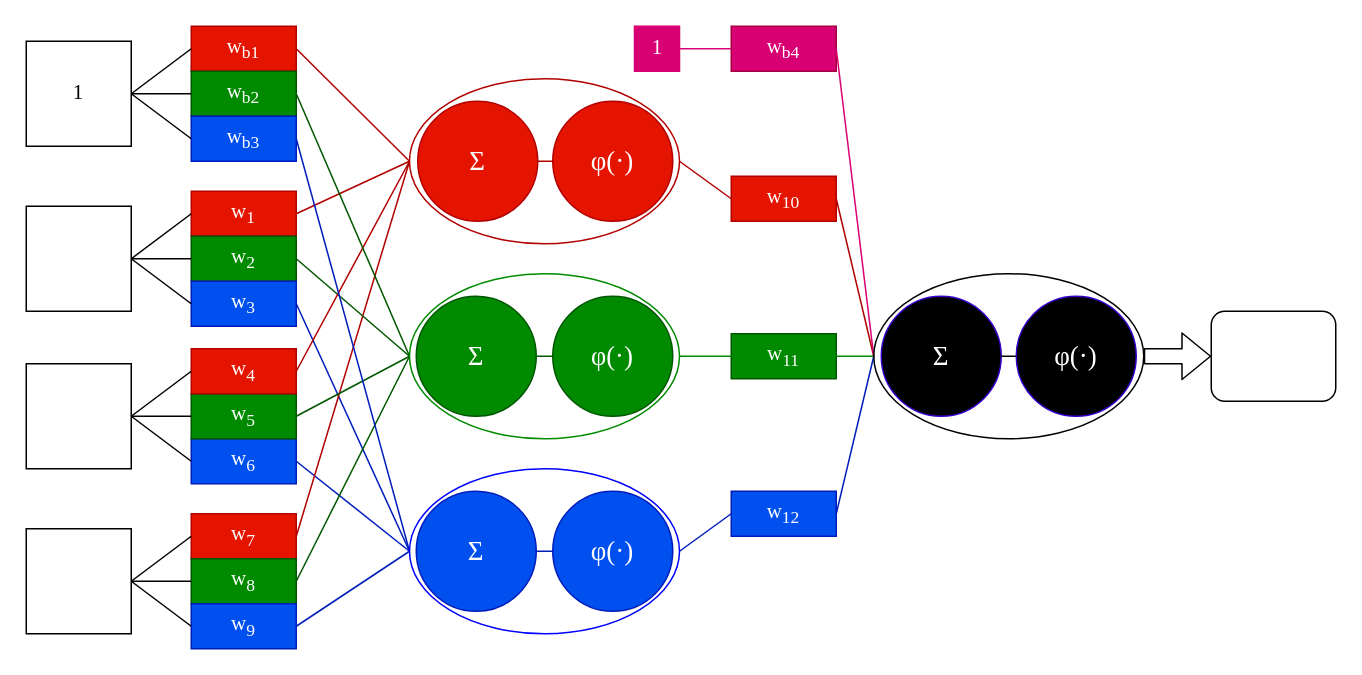
Image size: 1362x675. Some labels were removed from this diagram. Each missing label, with the centre of its shape:
"LUOKKA" goes at (1273,355).
"x 1" goes at (78,258).
"x 2" goes at (78,415).
"x 3" goes at (78,580).
